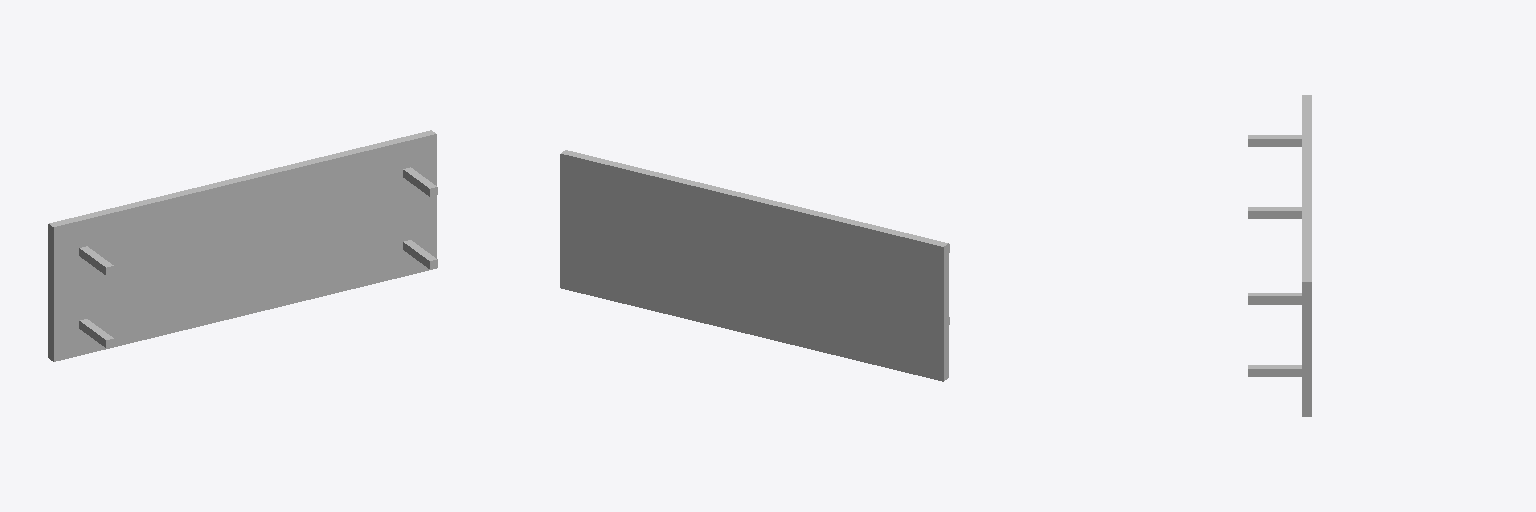
Rendered from random_table71.obj.
3 renders of one model, left to right at view 1: azimuth 30°, elevation 25°; view 2: azimuth 150°, elevation 25°; view 3: azimuth 270°, elevation 25°, orthographic.
Parts seen in each view (by area): view 1: Table_Cube.1420; view 2: Table_Cube.1420; view 3: Table_Cube.1420, TableLeg0_Cube.1421, TableLeg1_Cube.1422, TableLeg2_Cube.1423, TableLeg3_Cube.1424.
Boxes of the visible parts, box(x1,y1,x2,y2) form: Table_Cube.1420: box(48, 130, 436, 361); Table_Cube.1420: box(560, 150, 948, 381); Table_Cube.1420: box(1302, 95, 1311, 416); TableLeg0_Cube.1421: box(1248, 293, 1301, 304); TableLeg1_Cube.1422: box(1248, 135, 1301, 146); TableLeg2_Cube.1423: box(1248, 365, 1301, 376); TableLeg3_Cube.1424: box(1248, 207, 1301, 218).
Bounding box in the file's own units: 13.99 × 4.7 × 2.02.